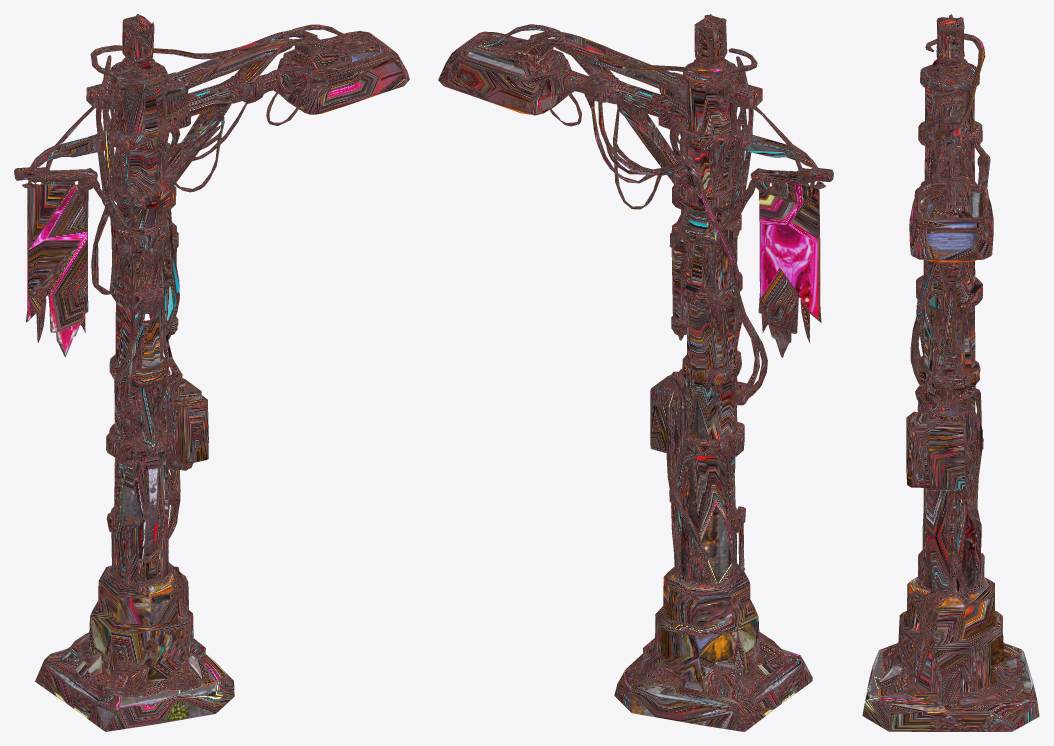
Rendered from street_lamp.glb.
3 renders of one model, left to right at view 1: azimuth 30°, elevation 25°; view 2: azimuth 150°, elevation 25°; view 3: azimuth 270°, elevation 25°, orthographic.
Visible parts, largest first — view 1: world; view 2: world; view 3: world.
Boxes of the visible parts, x1,y1,x2,y2 form: world: (14, 14, 409, 731); world: (438, 14, 833, 731); world: (862, 14, 1039, 731).
Size of the model in its own units: 1.16 by 1.99 by 0.4665.
1 material, 1 textured.
